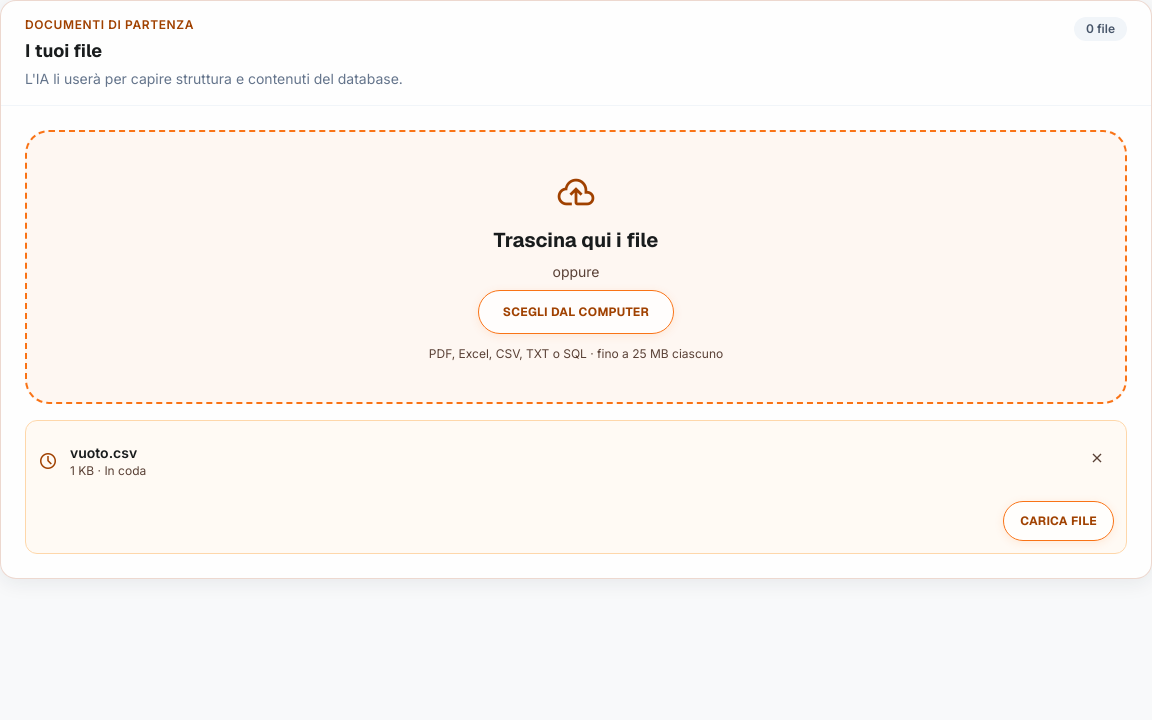
Scenario: DocumentUploader › coda, stato per file e riprova › non ritenta gli errori di validazione (4xx)
Earlier steps of the test are not shown.
Click the button "Carica file" at [1059, 521], box [1003,501,1114,541]
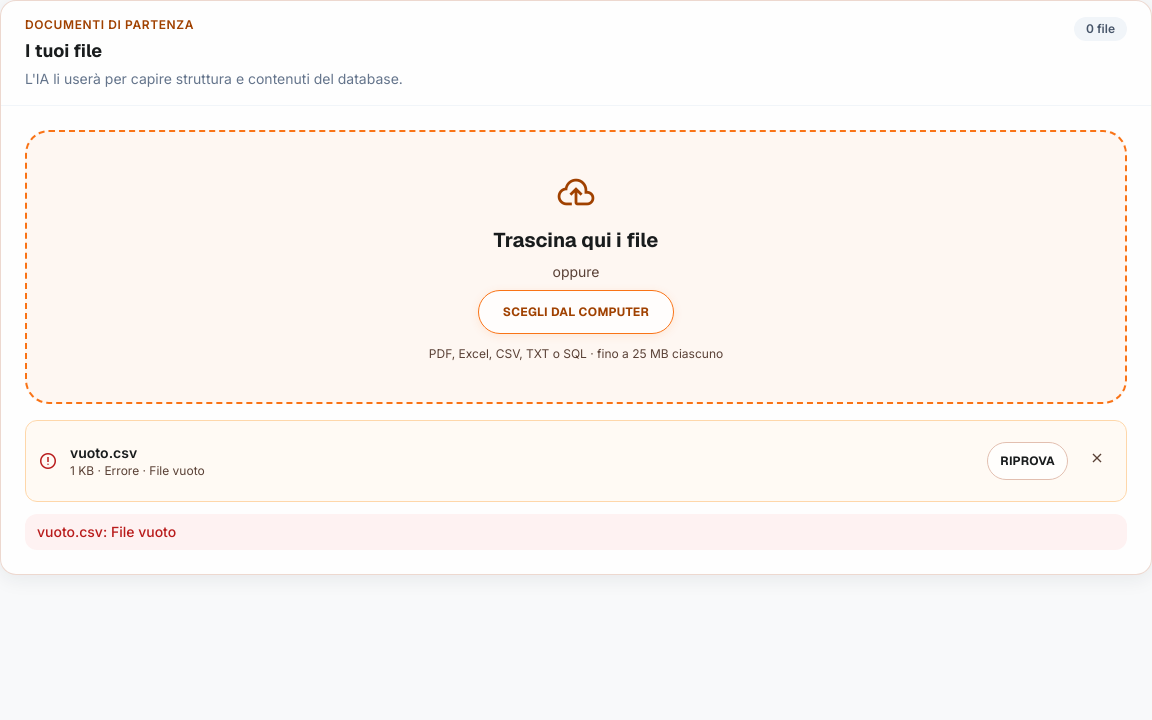
Now the message shows "File vuoto", box [37,523,176,540]
